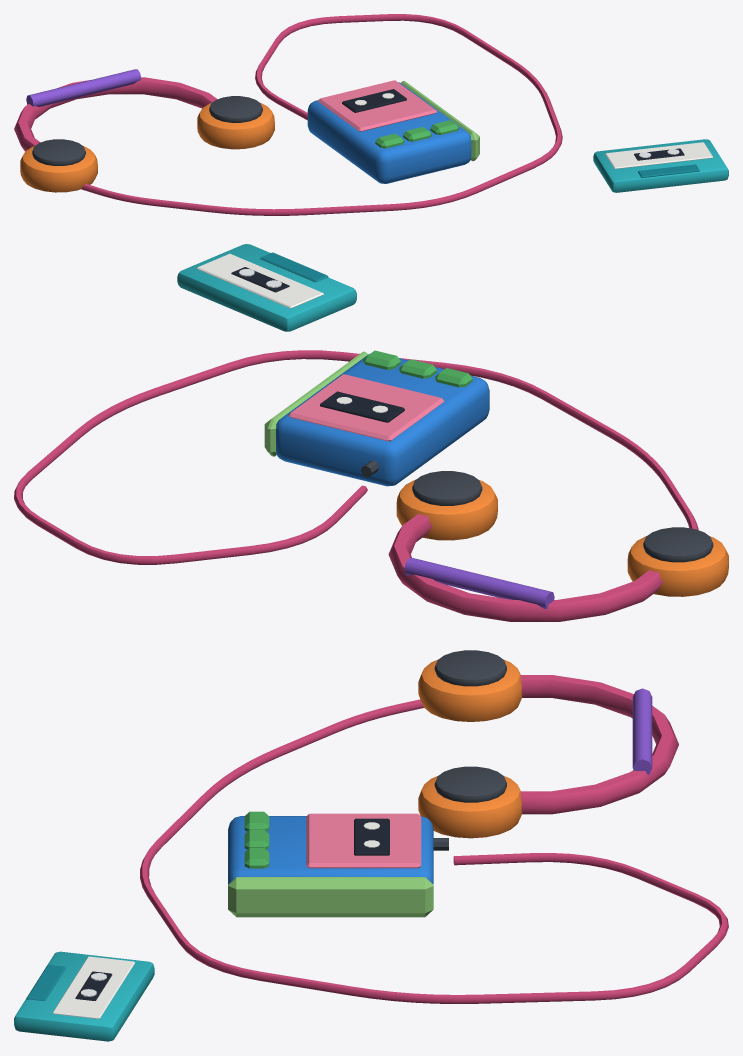
Rendered from walkman_fone.glb.
The picture shows the model from 3 angles, top to bottom: view 1: azimuth 30°, elevation 25°; view 2: azimuth 150°, elevation 25°; view 3: azimuth 270°, elevation 25°; orthographic projection. The views are drawn at different scales.
Parts seen in each view (by area): view 1: walkman_fone; view 2: walkman_fone; view 3: walkman_fone.
Part boxes in pixels (x1,y1,x2,y2): walkman_fone: (14,14,728,215); walkman_fone: (14,244,728,621); walkman_fone: (14,650,728,1041).
Size of the model in its own units: 0.5213 by 0.0355 by 0.4351.
Materials: 1 (1 with a texture image).
